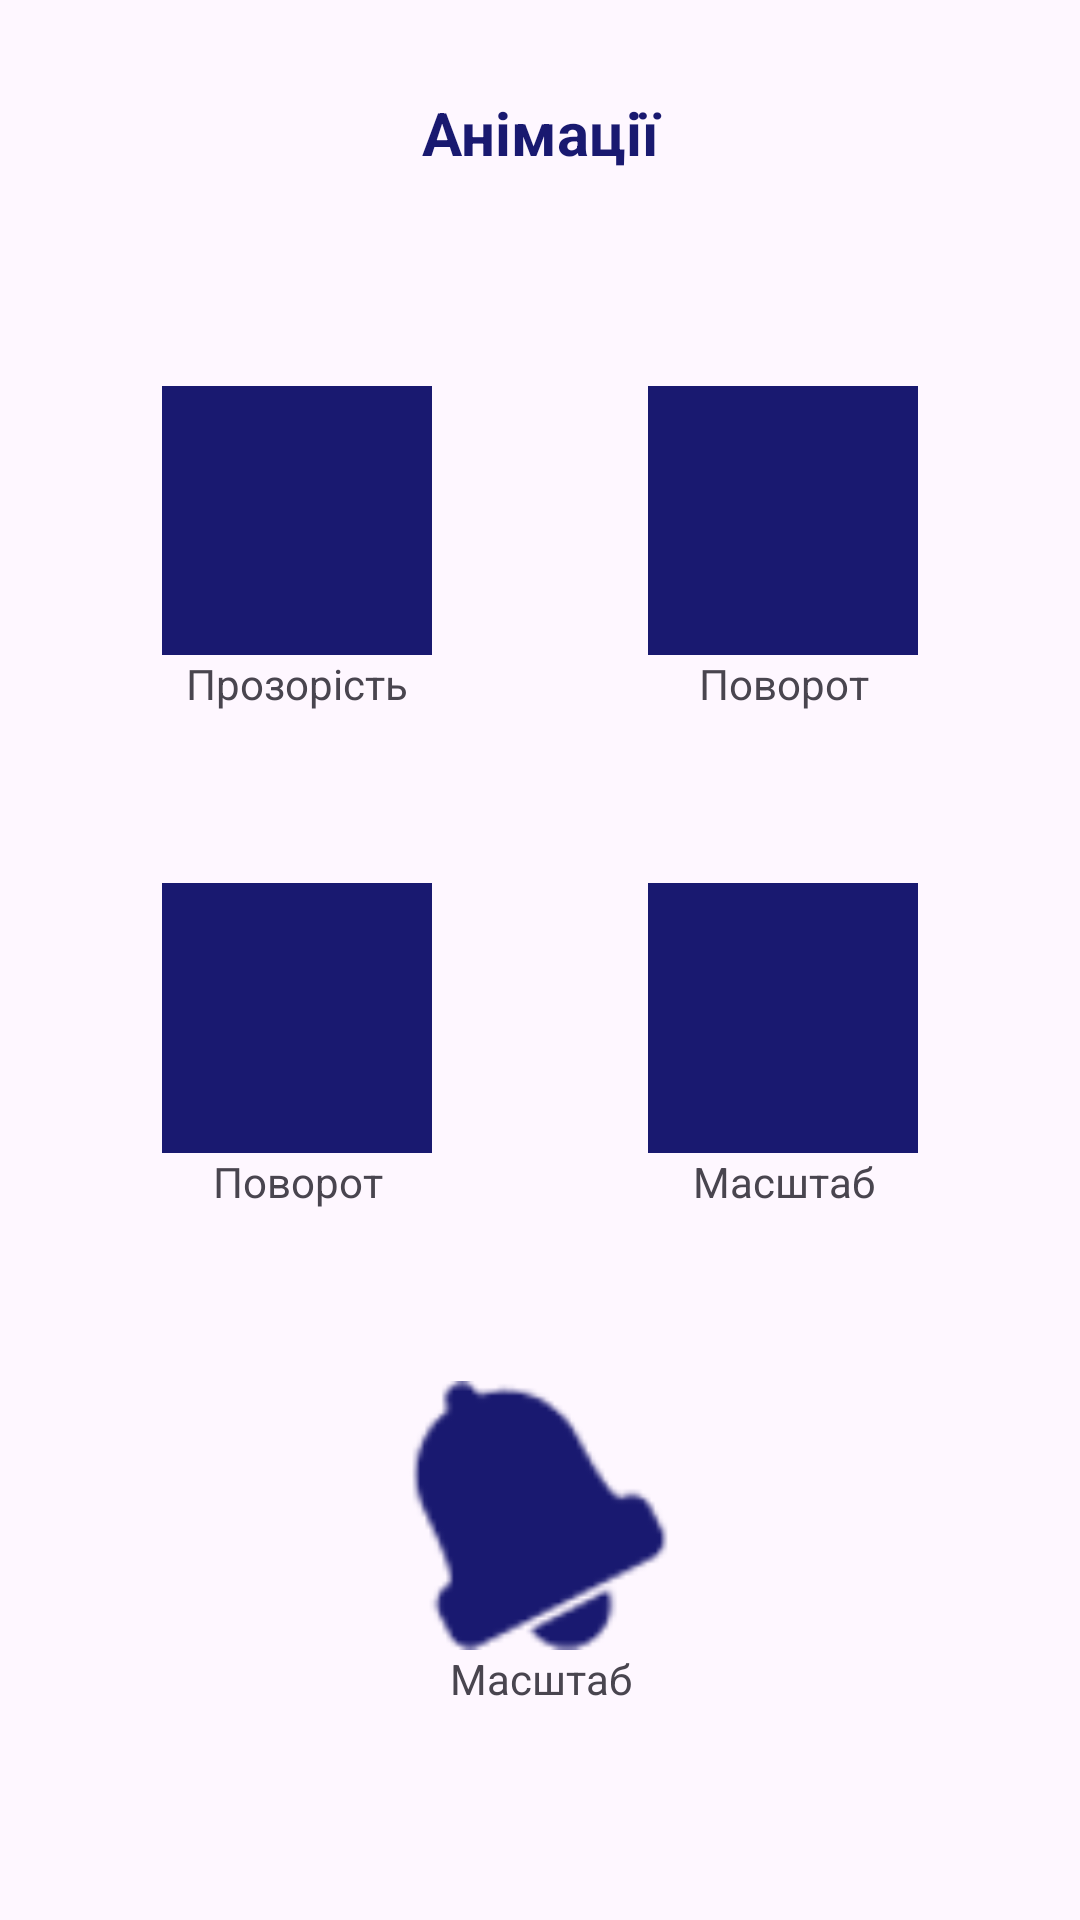

Named icons in this screenshot (1080*1920) and their centers, point (x, y):
popup reminder: point (540, 1515)
